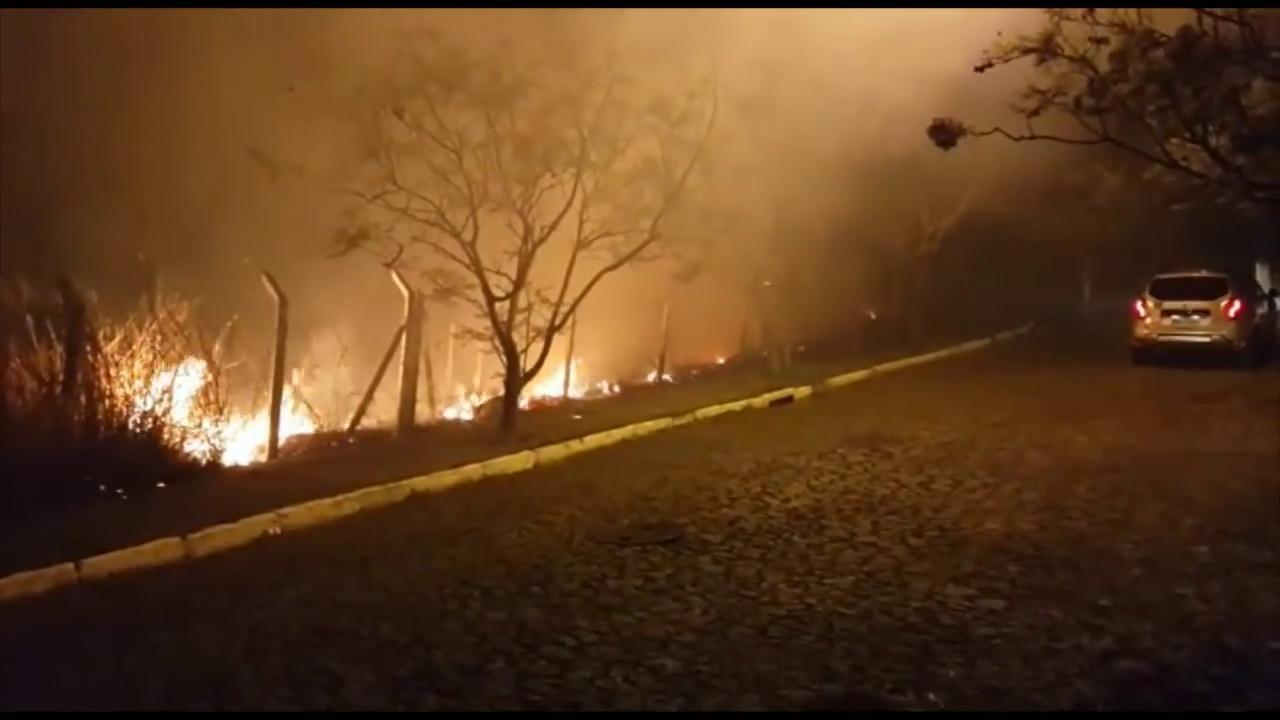fire: (155, 365, 315, 458), (536, 371, 598, 399), (447, 384, 496, 417)
smoke: (57, 27, 900, 266)
